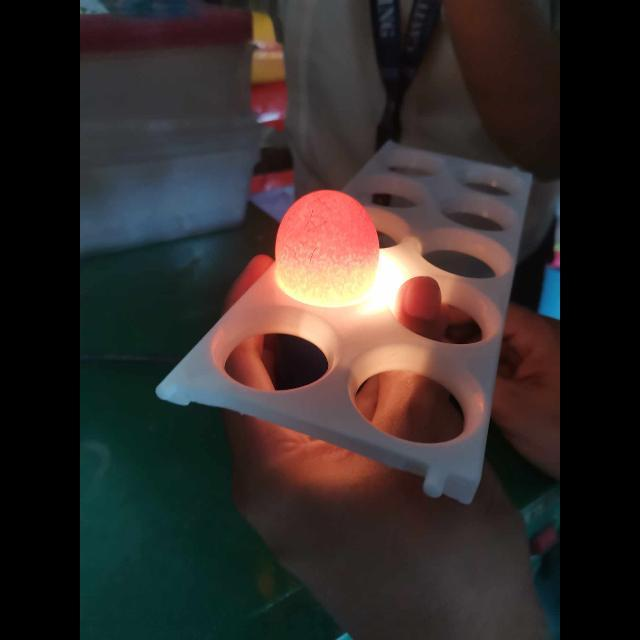Infertile: (274, 185, 382, 312)
